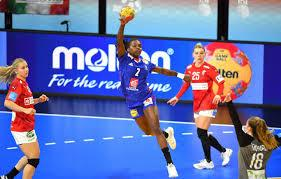ballon_handball: (119, 5, 136, 23)
